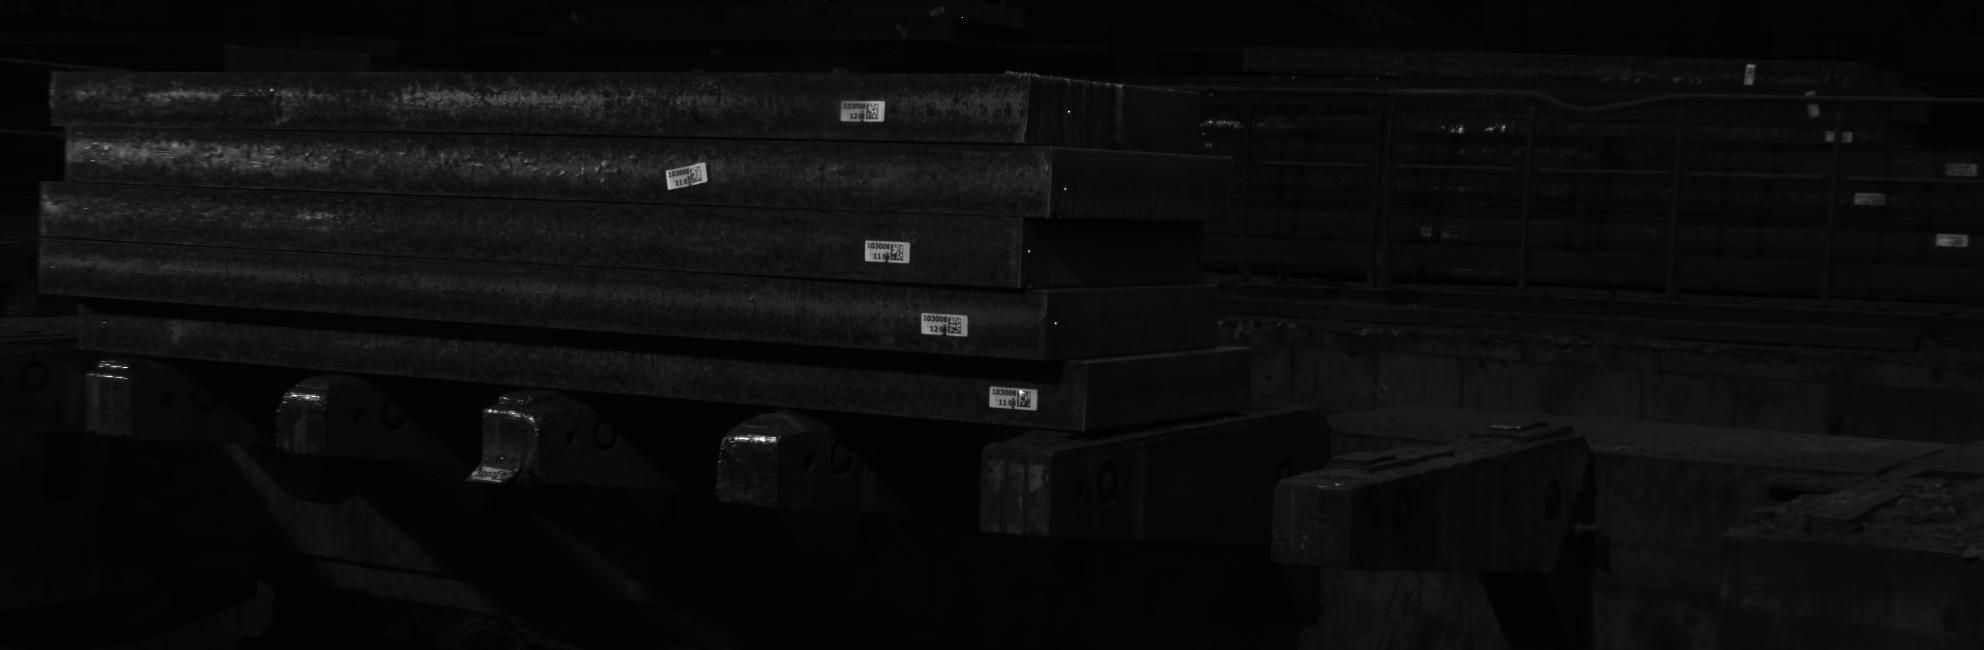data matrix: (949, 317, 964, 336), (1017, 391, 1032, 410), (891, 244, 906, 262), (865, 104, 879, 121), (691, 166, 704, 185)
